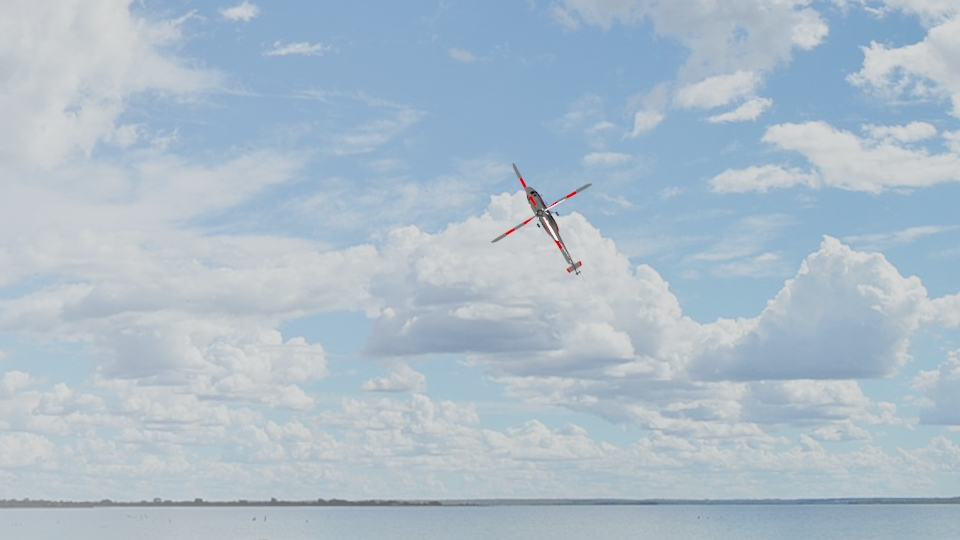heli: (489, 161, 593, 277)
